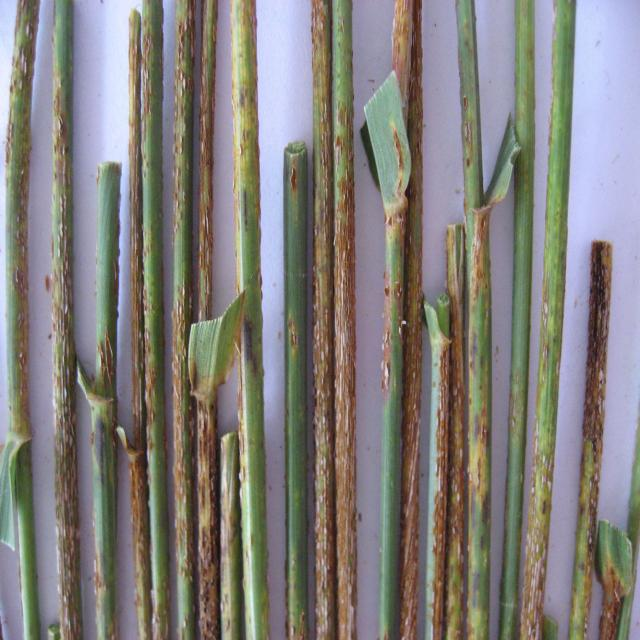wheat-stemrust: (453, 0, 494, 640), (520, 180, 569, 640), (136, 0, 169, 640), (51, 0, 83, 640), (333, 0, 360, 640), (399, 0, 426, 640), (4, 0, 42, 438), (127, 12, 153, 640), (172, 0, 197, 640), (310, 0, 335, 640), (92, 163, 120, 640), (284, 144, 310, 640), (424, 290, 452, 640), (443, 220, 466, 640), (194, 392, 221, 640), (381, 200, 406, 415), (394, 0, 414, 126)
